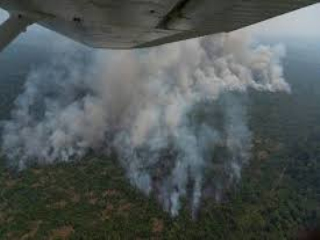smoke: (15, 56, 270, 210)
